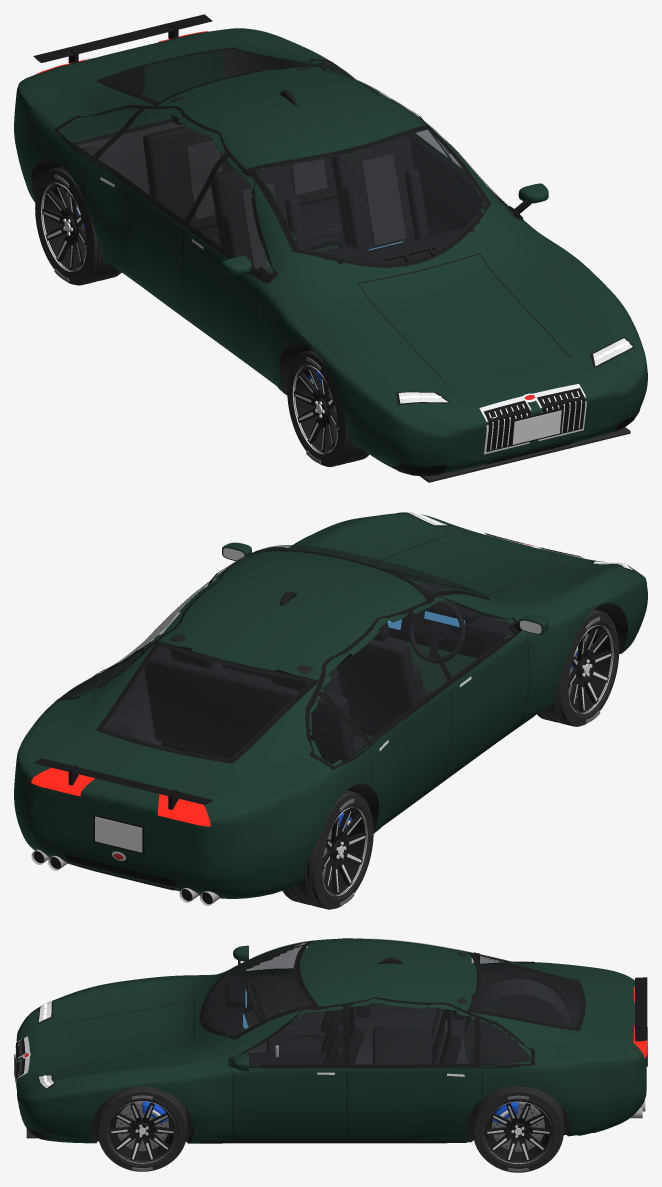
3 renders of one model, top to bottom at view 1: azimuth 30°, elevation 25°; view 2: azimuth 150°, elevation 25°; view 3: azimuth 270°, elevation 25°, orthographic. The views are drawn at different scales.
Parts seen in each view (by area): view 1: Body, Wheel_RR, Wheel_FR; view 2: Body, Wheel_RR, Wheel_FR; view 3: Body, Wheel_RL, Wheel_FL, Wheel_RR.
Part boxes in pixels (x1,y1,x2,y2): Body: [14, 14, 647, 482]; Wheel_RR: [35, 166, 121, 285]; Wheel_FR: [287, 349, 369, 466]; Body: [14, 511, 647, 905]; Wheel_RR: [282, 790, 373, 909]; Wheel_FR: [537, 609, 619, 726]; Body: [14, 938, 647, 1143]; Wheel_RL: [473, 1086, 563, 1172]; Wheel_FL: [97, 1086, 187, 1171]; Wheel_RR: [480, 1007, 552, 1064].
Size of the model in its own units: 2.26 by 1.46 by 5.09.
